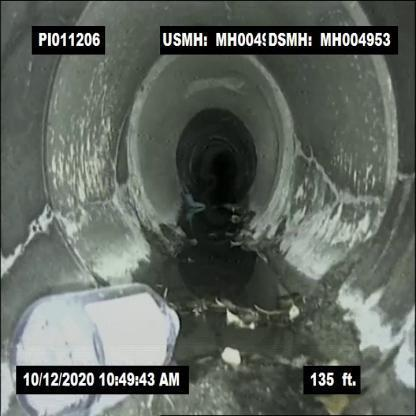crack: (301, 151, 368, 206), (4, 208, 49, 274), (58, 194, 112, 224)
